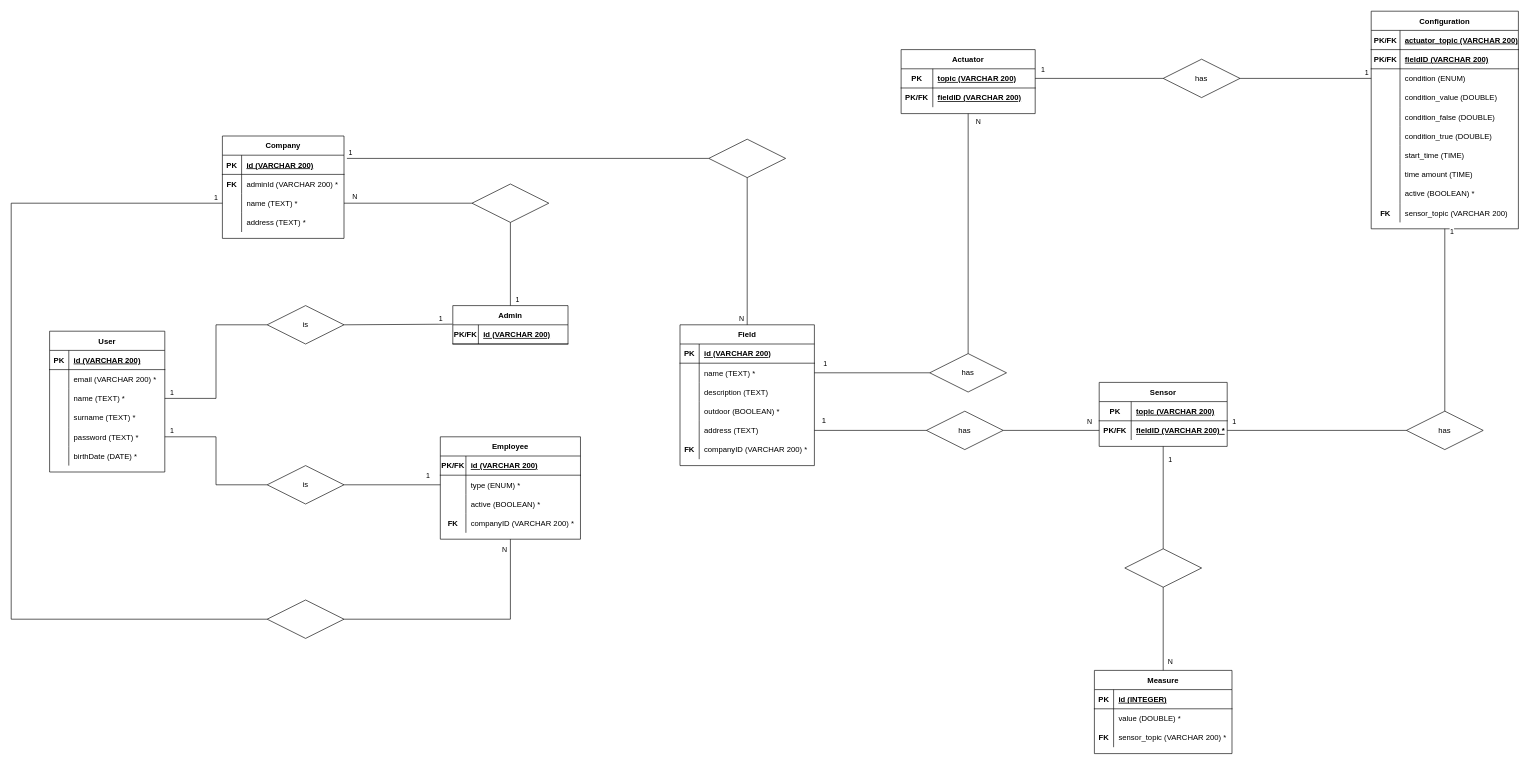
The diagram is 1530 pixels wide and 765 high, and some of its shapes have lost their labels. The shapes that lost their labels are listed below. From the top down, each one's centre as x and y in pixels, then its label:
pixel 747 158: belongs
pixel 510 202: manages
pixel 1163 567: register
pixel 305 618: Relationship
